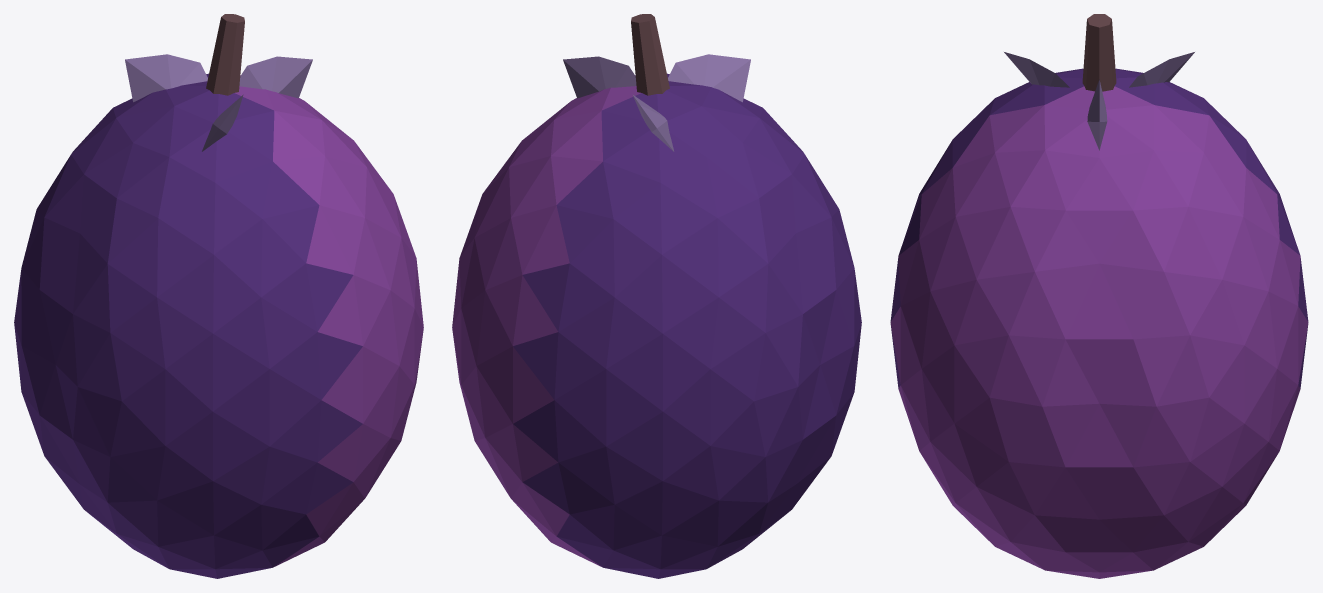
The model's file is RoyalPlumFruit.obj.
3 renders of one model, left to right at view 1: azimuth 30°, elevation 25°; view 2: azimuth 150°, elevation 25°; view 3: azimuth 270°, elevation 25°, orthographic.
Visible parts, largest first — view 1: RoyalPlumFruit_RoyalPlumSkin, RoyalPlumFruit_RoyalPlumBlush, RoyalPlumFruit_RoyalPlumSepals, RoyalPlumFruit_RoyalPlumStem; view 2: RoyalPlumFruit_RoyalPlumSkin, RoyalPlumFruit_RoyalPlumBlush, RoyalPlumFruit_RoyalPlumSepals, RoyalPlumFruit_RoyalPlumStem; view 3: RoyalPlumFruit_RoyalPlumBlush, RoyalPlumFruit_RoyalPlumSkin, RoyalPlumFruit_RoyalPlumSepals, RoyalPlumFruit_RoyalPlumStem.
Boxes of the visible parts, x1,y1,x2,y2 form: RoyalPlumFruit_RoyalPlumSkin: (14, 73, 362, 578); RoyalPlumFruit_RoyalPlumBlush: (235, 75, 423, 566); RoyalPlumFruit_RoyalPlumSepals: (125, 54, 312, 151); RoyalPlumFruit_RoyalPlumStem: (206, 14, 244, 95); RoyalPlumFruit_RoyalPlumSkin: (513, 73, 861, 578); RoyalPlumFruit_RoyalPlumBlush: (452, 75, 640, 566); RoyalPlumFruit_RoyalPlumSepals: (563, 54, 750, 151); RoyalPlumFruit_RoyalPlumStem: (631, 14, 669, 95); RoyalPlumFruit_RoyalPlumBlush: (890, 86, 1308, 578); RoyalPlumFruit_RoyalPlumSkin: (890, 68, 1308, 388); RoyalPlumFruit_RoyalPlumSepals: (1004, 52, 1194, 150); RoyalPlumFruit_RoyalPlumStem: (1082, 14, 1116, 91).
Bounding box in the file's own units: 0.9345 × 1.43 × 0.98.
